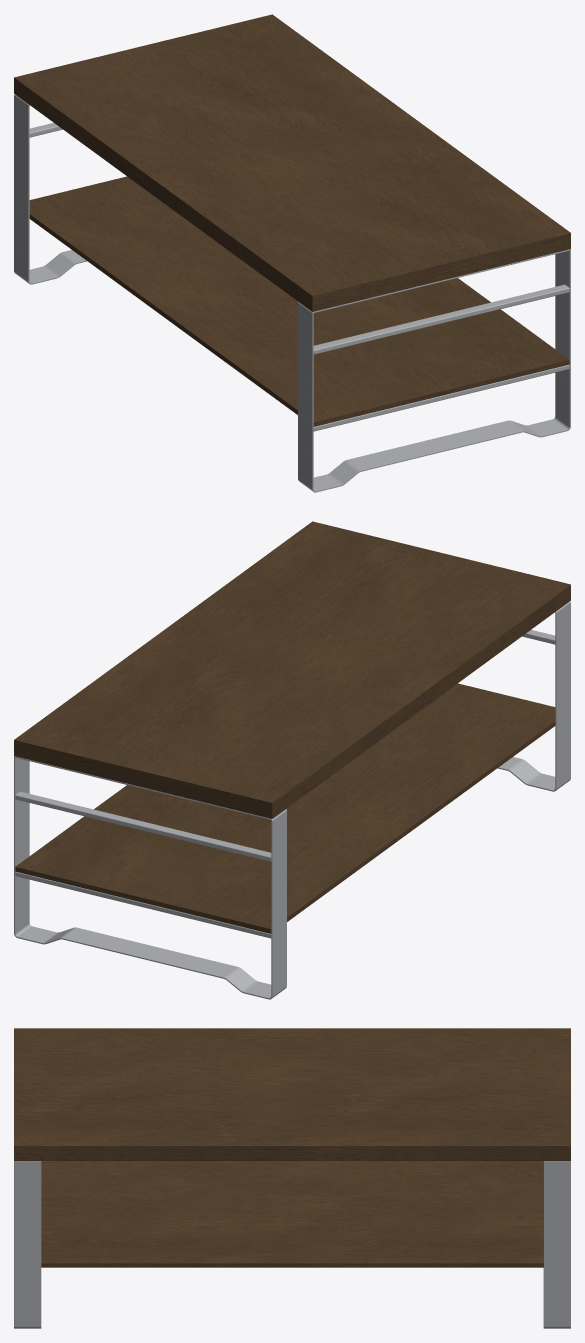
File: furniture_table_coffee_low_a01.glb
3 views of the same model, one above another, from view 1: azimuth 30°, elevation 25°; view 2: azimuth 150°, elevation 25°; view 3: azimuth 270°, elevation 25° (orthographic). The views are drawn at different scales.
Parts seen in each view (by area): view 1: table_01_mesh_00; view 2: table_01_mesh_00; view 3: table_01_mesh_00.
Part boxes in pixels (left/top/right/bottom): table_01_mesh_00: left=14, top=14, right=570, bottom=492; table_01_mesh_00: left=14, top=521, right=570, bottom=999; table_01_mesh_00: left=14, top=1028, right=570, bottom=1328.
Size of the model in its own units: 0.6001 by 0.4427 by 1.2.
3 materials, 2 textured.
